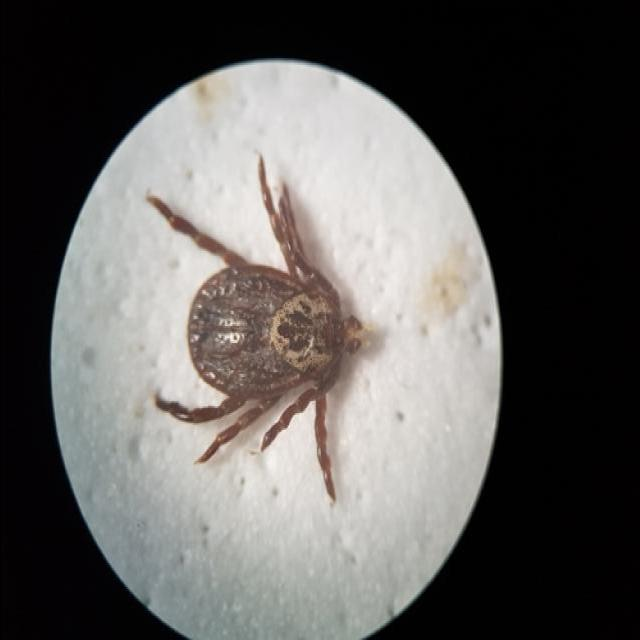Dermacentor Reticulatus-F: (145, 152, 369, 502)
